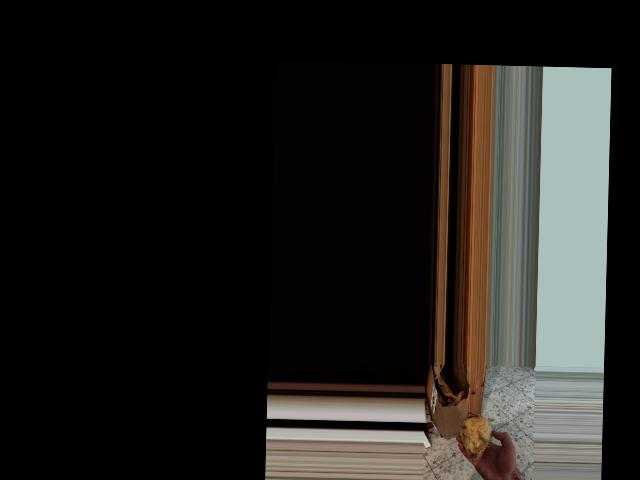onion: (456, 410, 499, 466)
